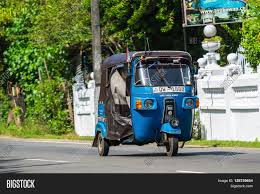tuk tuk: (90, 50, 200, 158)
